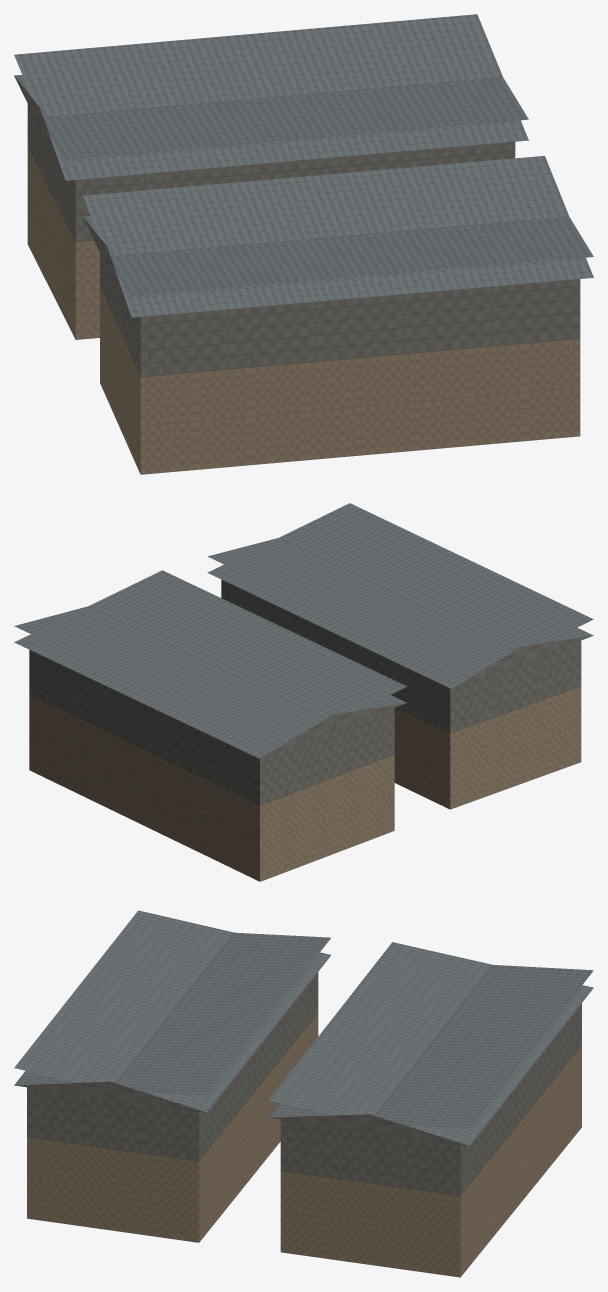
The model's file is bld_c28_-52_540.gltf.
The picture shows the model from 3 angles, top to bottom: view 1: azimuth 30°, elevation 25°; view 2: azimuth 150°, elevation 25°; view 3: azimuth 270°, elevation 25°; orthographic projection. The views are drawn at different scales.
Parts seen in each view (by area): view 1: bld_c28_-52_540; view 2: bld_c28_-52_540; view 3: bld_c28_-52_540.
Part boxes in pixels (x1=…): bld_c28_-52_540: x1=14, y1=14, x2=593, y2=474; bld_c28_-52_540: x1=14, y1=503, x2=593, y2=881; bld_c28_-52_540: x1=14, y1=910, x2=593, y2=1277.
Bounding box in the file's own units: 27.33 × 9 × 30.24.
4 materials, 4 textured.
